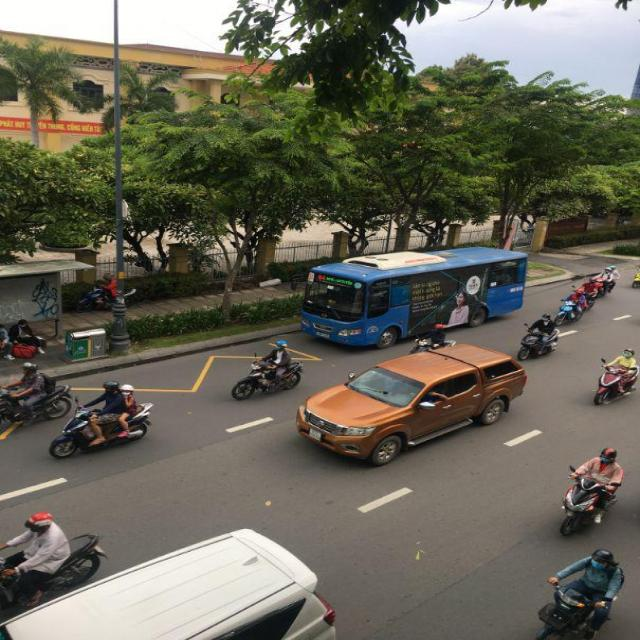bus: (299, 245, 526, 351)
car: (0, 530, 343, 639), (294, 340, 528, 468)
motorcycle: (0, 532, 107, 628), (49, 390, 155, 460), (537, 579, 621, 639), (2, 380, 77, 438), (558, 471, 623, 536), (234, 359, 304, 398), (592, 365, 636, 408), (518, 317, 561, 359)
